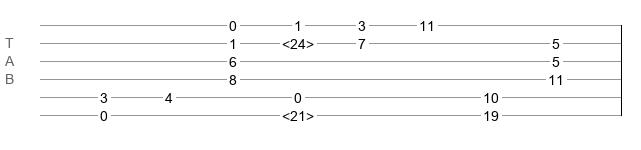0: (100, 108, 108, 118), (229, 18, 237, 28), (294, 90, 302, 100)
1: (229, 36, 237, 46), (294, 18, 302, 28)
10: (483, 90, 499, 100)
11: (419, 18, 435, 28), (548, 72, 564, 82)
19: (483, 108, 499, 118)
3: (100, 90, 108, 100), (358, 18, 366, 28)
4: (165, 90, 173, 100)
5: (552, 54, 560, 64), (552, 36, 560, 46)
6: (229, 54, 237, 64)
7: (358, 36, 366, 46)
8: (229, 72, 237, 82)
harmonic: (282, 108, 314, 118), (282, 36, 314, 46)
